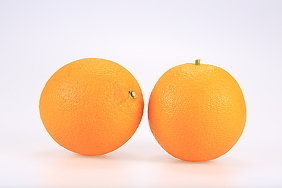orange: (43, 57, 143, 160), (148, 62, 249, 162)
